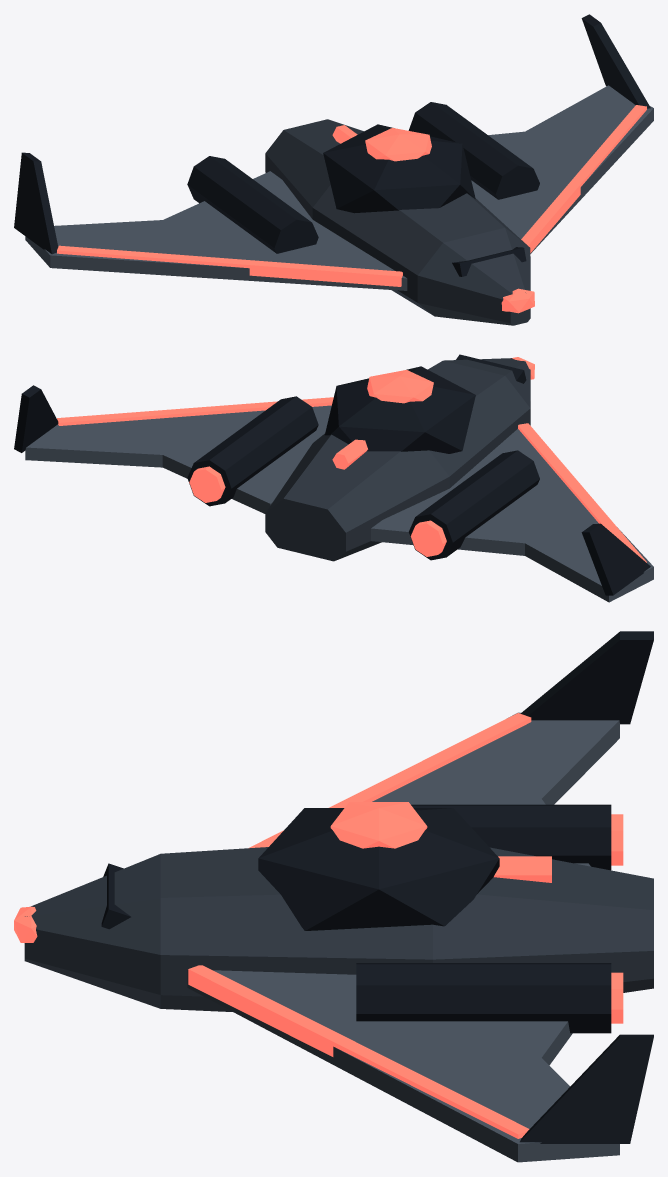
File: air_m_recon.glb
3 renders of one model, top to bottom at view 1: azimuth 30°, elevation 25°; view 2: azimuth 150°, elevation 25°; view 3: azimuth 270°, elevation 25°, orthographic. The views are drawn at different scales.
Visible parts, largest first — view 1: Spy drone; view 2: Spy drone; view 3: Spy drone.
Part boxes in pixels (bbox=[...]): Spy drone: bbox=[14, 14, 653, 325]; Spy drone: bbox=[14, 354, 653, 602]; Spy drone: bbox=[14, 631, 653, 1162].
Size of the model in its own units: 3.6 by 0.72 by 2.26.
